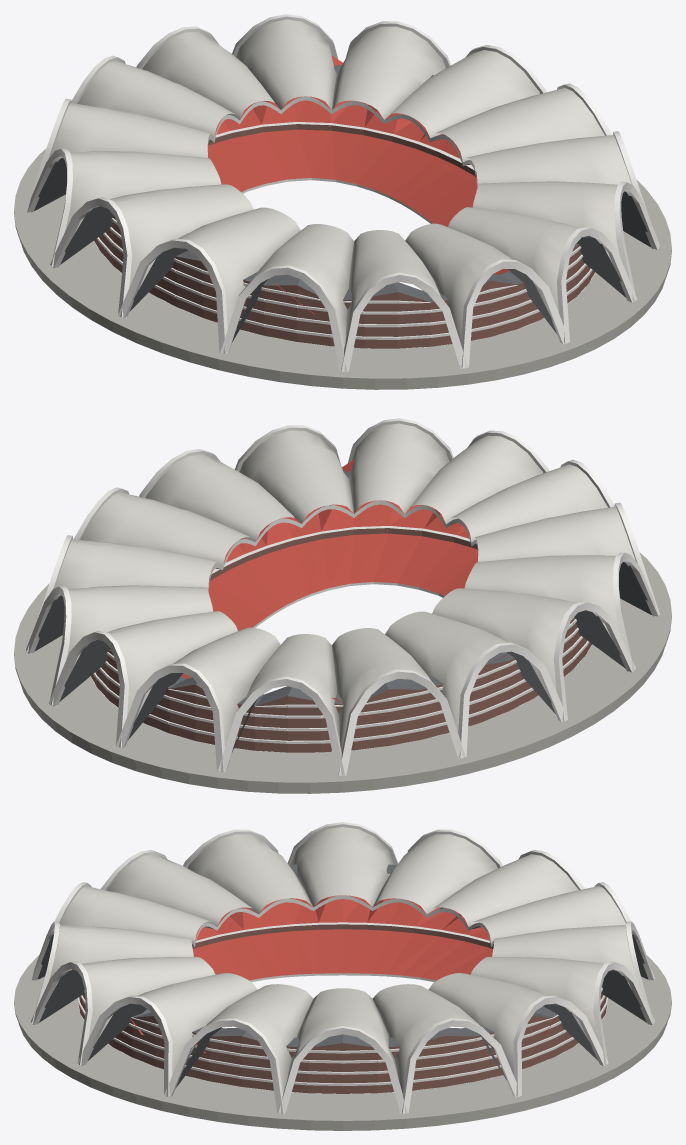
Rendered from pyongyang-rungrado.glb.
3 views of the same model, one above another, from view 1: azimuth 30°, elevation 25°; view 2: azimuth 150°, elevation 25°; view 3: azimuth 270°, elevation 25° (orthographic). The views are drawn at different scales.
Visible parts, largest first — view 1: Rungrado 1st of May Stadium; view 2: Rungrado 1st of May Stadium; view 3: Rungrado 1st of May Stadium.
Boxes of the visible parts, x1,y1,x2,y2 form: Rungrado 1st of May Stadium: [14, 14, 671, 389]; Rungrado 1st of May Stadium: [14, 418, 671, 793]; Rungrado 1st of May Stadium: [14, 822, 671, 1130].
Bounding box in the file's own units: 364 × 61.85 × 422.
